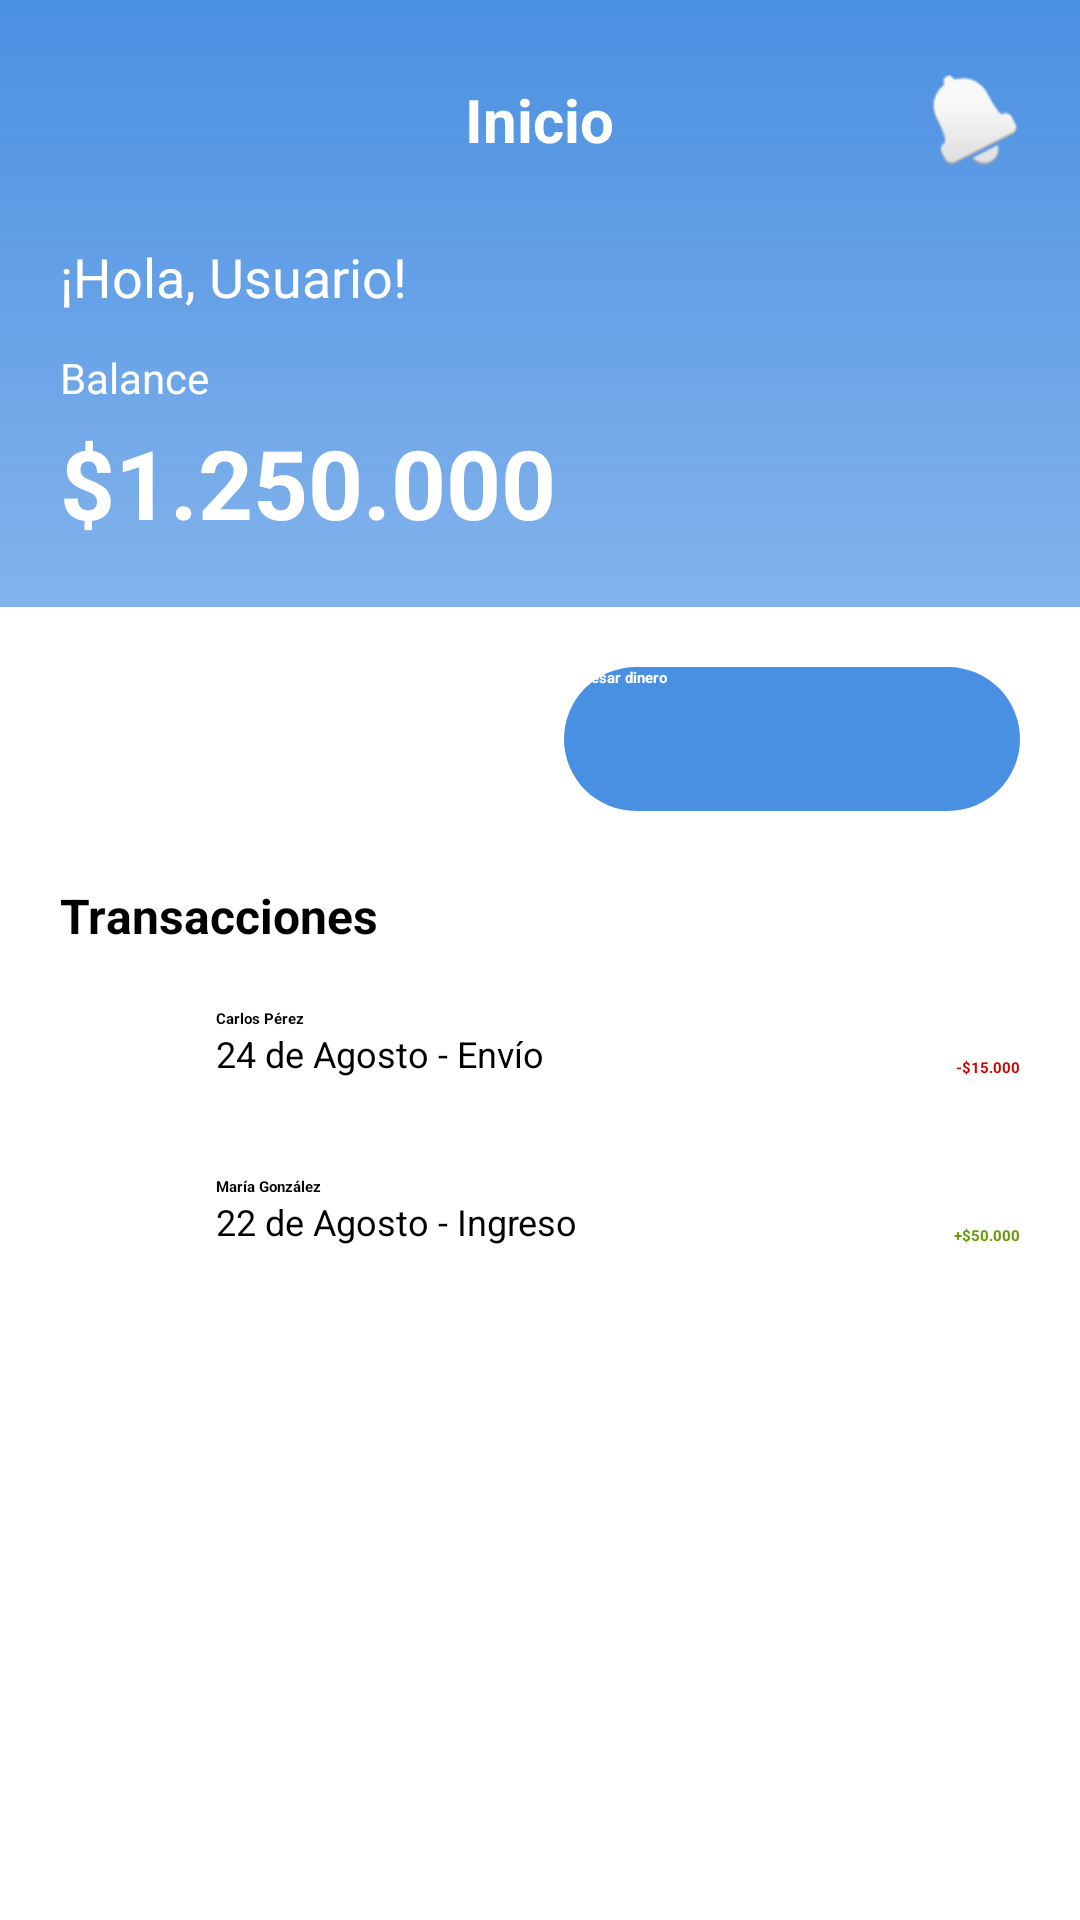

Icon click points for this 1080w x 1920h phone screenshot, format (x,y):
Campanita de notificación: (975,120)
